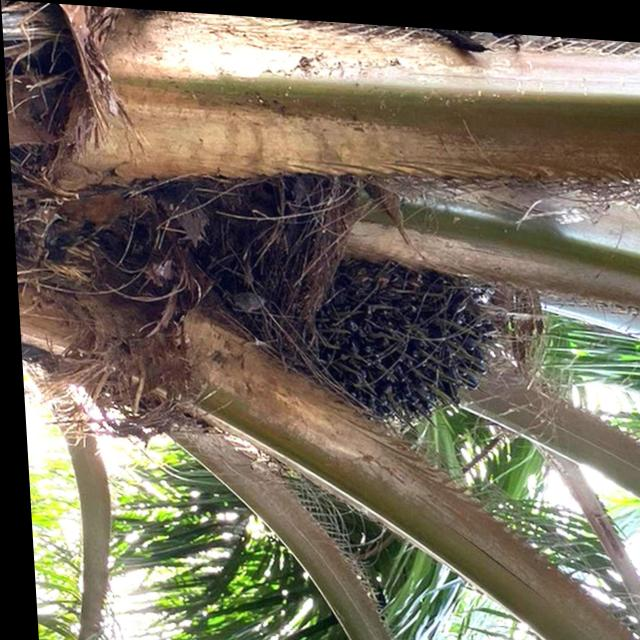unripe: (299, 254, 494, 425)
